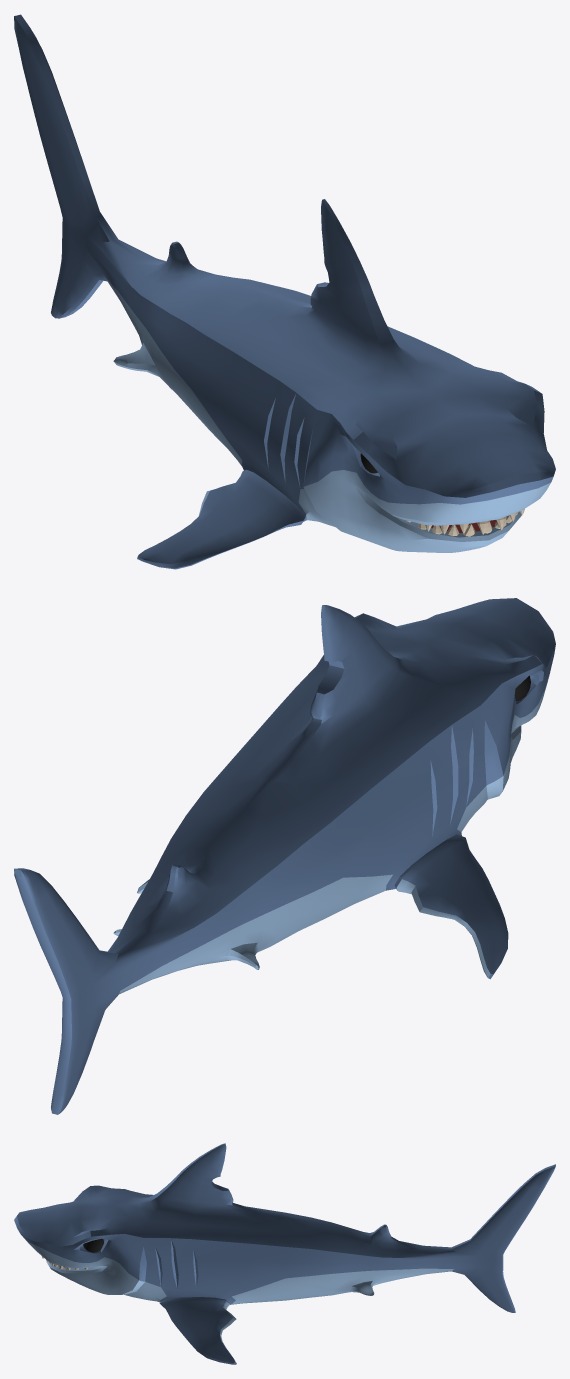
The model's file is Shark.obj.
The picture shows the model from 3 angles, top to bottom: view 1: azimuth 30°, elevation 25°; view 2: azimuth 150°, elevation 25°; view 3: azimuth 270°, elevation 25°; orthographic projection. The views are drawn at different scales.
Visible parts, largest first — view 1: obj1, obj2; view 2: obj1; view 3: obj1, obj2.
Boxes of the visible parts, <box> form: obj1: <box>14,14,555,569</box>; obj2: <box>360,453,524,536</box>; obj1: <box>14,598,555,1114</box>; obj1: <box>14,1143,555,1364</box>; obj2: <box>42,1238,103,1269</box>.
Bounding box in the file's own units: 2.3 × 2.01 × 5.63.
1 material, 1 textured.
